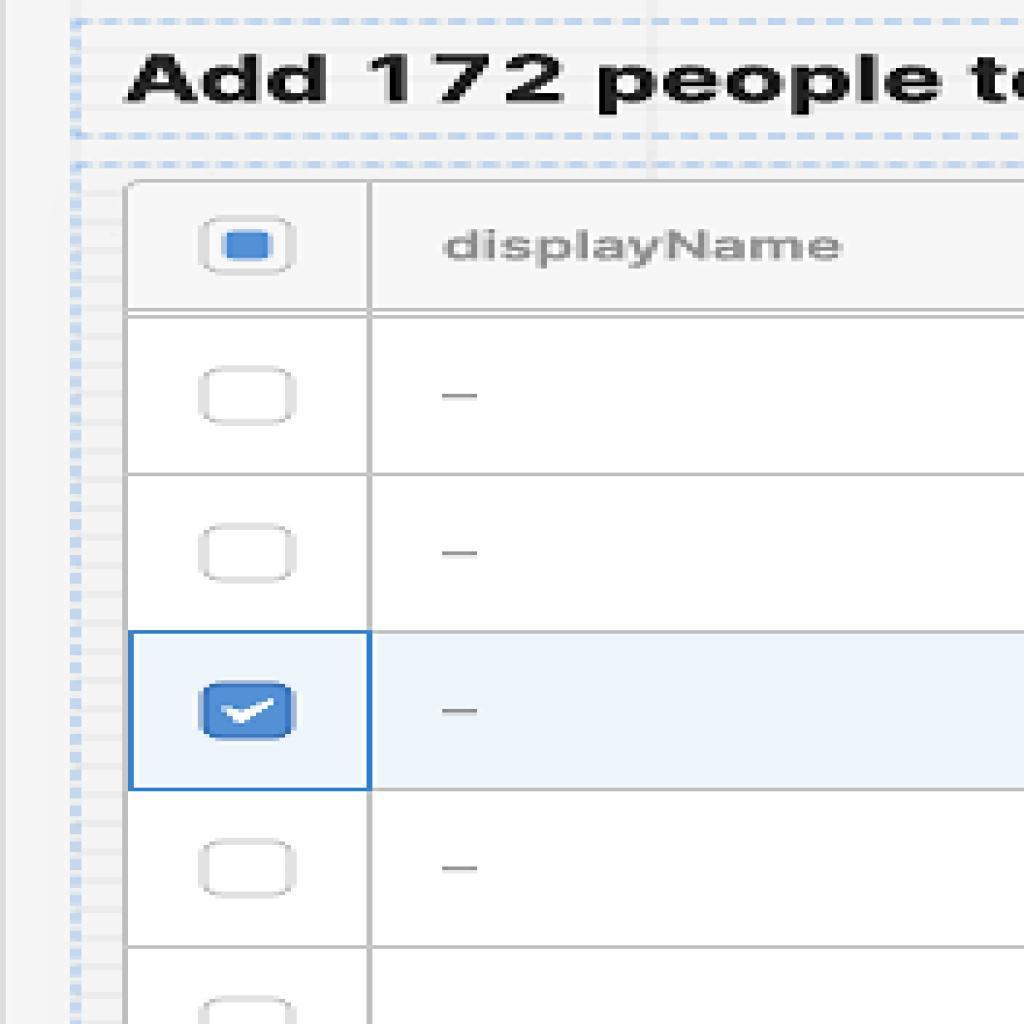checkbox: (205, 844, 296, 899), (202, 525, 295, 578), (203, 370, 293, 423), (204, 684, 294, 737)
label: (424, 223, 858, 279)
